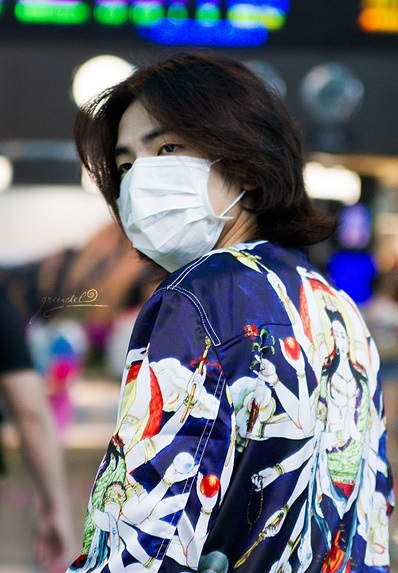face_mask: (110, 95, 223, 264)
